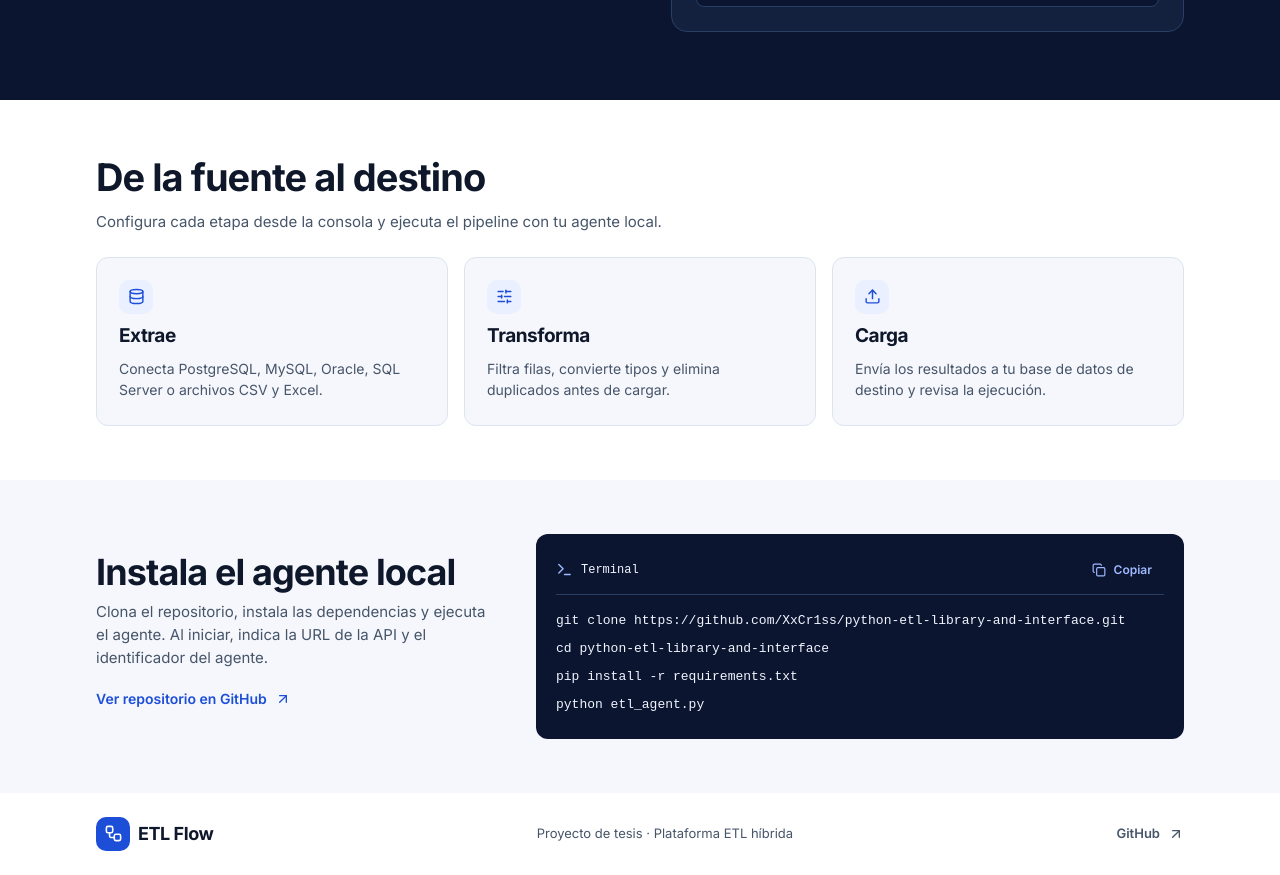
Scenario: ETL Flow home › copies the entire installation sequence and announces success
The width and height of the screenshot is (1280, 875).
(page scrolled)
Click the button "Copiar" at {"x": 1122, "y": 570}, box [1080,554,1164,586]
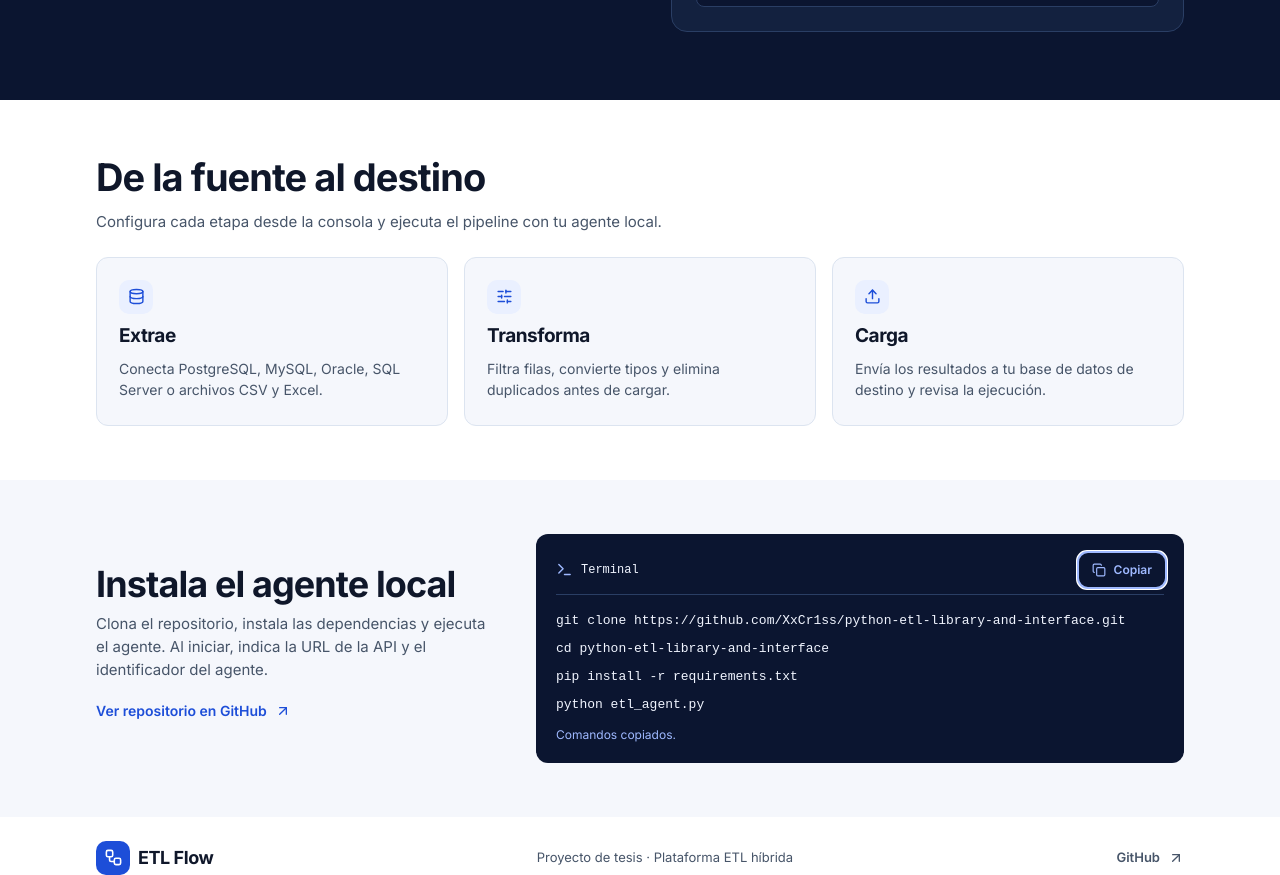
expect the message reads "Comandos copiados.": met, box [556,726,676,742]
